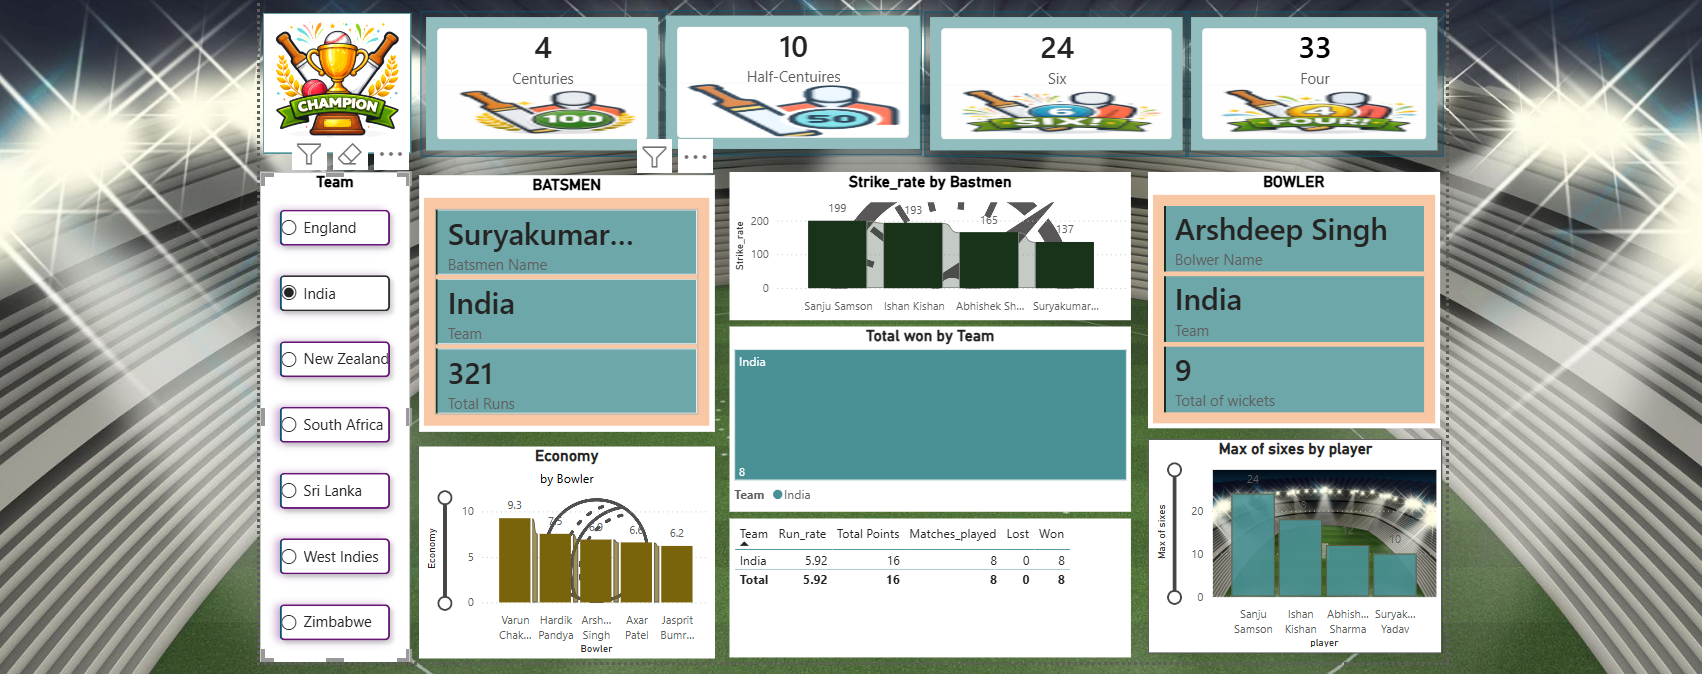

What the dashboard file says about the page in this screenshot:
{"tool":"powerbi","page":{"name":"Page 1","canvas":[1280,720],"ordinal":0},"visuals":[{"type":"cardVisual","fields":{"Data":["Sum(batting_stats.fifties)"]},"box":[433,16.3,281.7,156.7],"z":0},{"type":"cardVisual","fields":{"Data":["Max(batting_stats.fours)"]},"box":[998.5,18,278.3,156.7],"z":1000},{"type":"cardVisual","fields":{"Data":["Max(batting_stats.sixes)"]},"box":[717,18,285,156.7],"z":2000},{"type":"cardVisual","fields":{"Data":["CountNonNull(batting_stats.hundreds)"]},"box":[174,18,263.3,156.7],"z":3000},{"type":"cardVisual","title":"BATSMEN","fields":{"Data":["Max(batting_stats.player)","Min(batting_stats.team)","Max(batting_stats.runs)"]},"box":[171.6,194.3,319,276.9],"z":4000},{"type":"cardVisual","title":"BOWLER","fields":{"Data":["Min(bowling_stats.player)","Min(bowling_stats.team)","Min(bowling_stats.wickets)"]},"box":[958.3,191.7,315,276.7],"z":5000},{"type":"tableEx","fields":{"Values":["points_table.team","Sum(points_table.net_run_rate)","Sum(points_table.points)","Sum(points_table.matches_played)","Sum(points_table.lost)","Sum(points_table.won)"]},"box":[506.7,565,433.3,150],"z":6000},{"type":"listSlicer","title":"Team","fields":{"Values":["points_table.team"]},"box":[0,191.1,161.9,529.5],"z":7000},{"type":"columnChart","fields":{"Category":["batting_stats.player"],"Y":["Median(batting_stats.strike_rate)"]},"box":[507,191.7,433.3,160],"z":8000},{"type":"columnChart","fields":{"Category":["bowling_stats.player"],"Y":["Median(bowling_stats.economy)"]},"box":[171.6,487.4,319,228.3],"z":9000},{"type":"treemap","fields":{"Group":["points_table.team"],"Values":["Sum(points_table.won)"]},"box":[506.7,358.3,433.3,200],"z":10000},{"type":"lineClusteredColumnComboChart","fields":{"Category":["batting_stats.player"],"Y":["Sum(batting_stats.sixes)"]},"box":[958.6,480,317.4,231],"z":11000},{"type":"image","box":[3.3,20,160,151.7],"z":12000}]}

Visuals, with their boxes in screenshot pixels (x1, y1, x2, y2):
cardVisual - Sum(batting_stats.fifties): (657, 6, 917, 151)
cardVisual - Max(batting_stats.fours): (1178, 8, 1435, 152)
cardVisual - Max(batting_stats.sixes): (919, 8, 1182, 152)
cardVisual - CountNonNull(batting_stats.hundreds): (418, 8, 661, 152)
"BATSMEN" cardVisual: (415, 170, 710, 426)
"BOWLER" cardVisual: (1141, 168, 1432, 423)
tableEx - points_table.team x Sum(points_table.net_run_rate): (725, 513, 1124, 651)
"Team" listSlicer: (257, 167, 406, 656)
columnChart - batting_stats.player x Median(batting_stats.strike_rate): (725, 168, 1125, 316)
columnChart - bowling_stats.player x Median(bowling_stats.economy): (415, 441, 710, 652)
treemap - points_table.team x Sum(points_table.won): (725, 322, 1124, 506)
lineClusteredColumnComboChart - batting_stats.player x Sum(batting_stats.sixes): (1142, 434, 1435, 647)
image: (260, 10, 408, 150)
